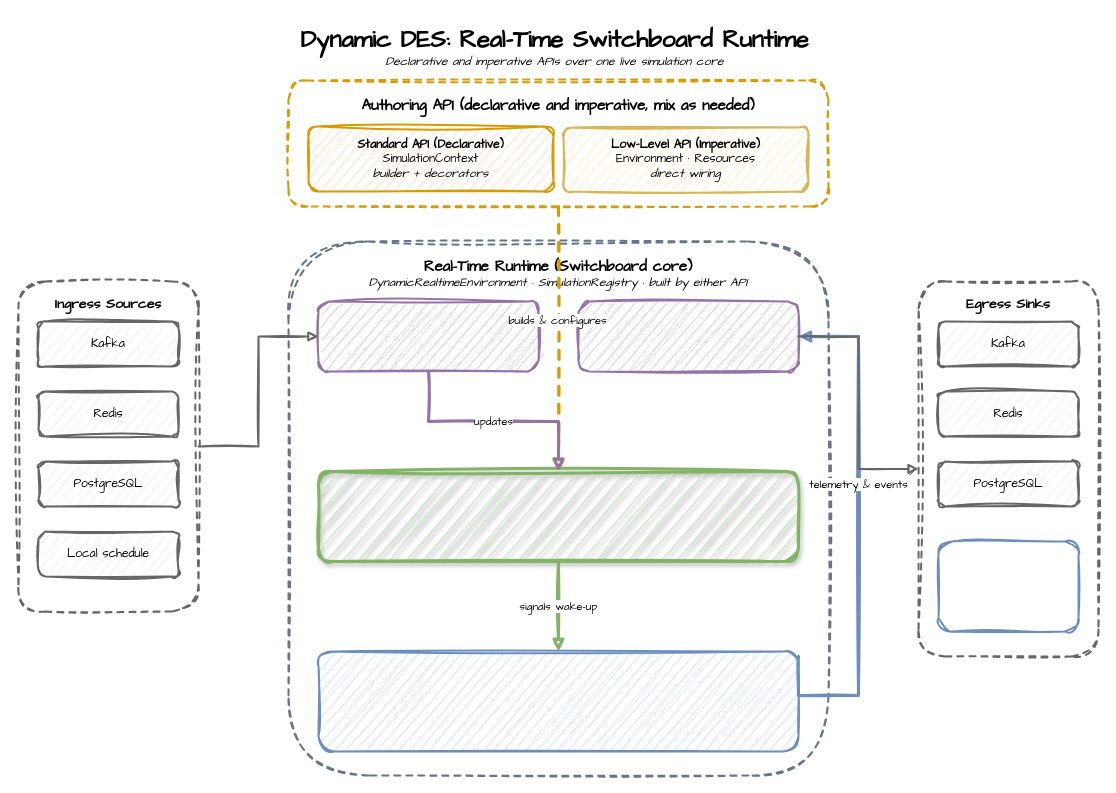
Some shapes in this 1116 by 793 pixel diagram are drawn without their labels. The centre of each missing label's shape, as x and y in pixels:
Data Lake Parquet / JSONL S3, GCS, Azure, SeaweedFS: pixel 1008 586
Egress Connectors Pydantic payloads, orjson, batched: pixel 688 336
Ingress Connectors background I/O threads: pixel 428 336
Registry (Switchboard) central state, dot-notation paths: pixel 559 518
SimPy Resources DynamicResource passive observers, event-driven capacity: pixel 558 701
